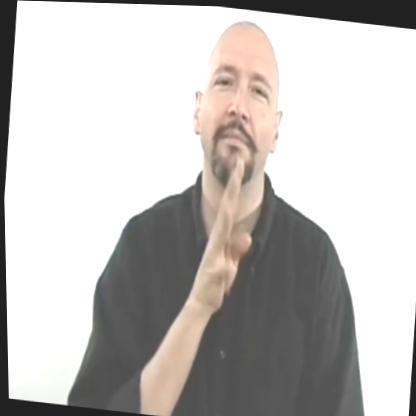Talk: (172, 14, 297, 311)
